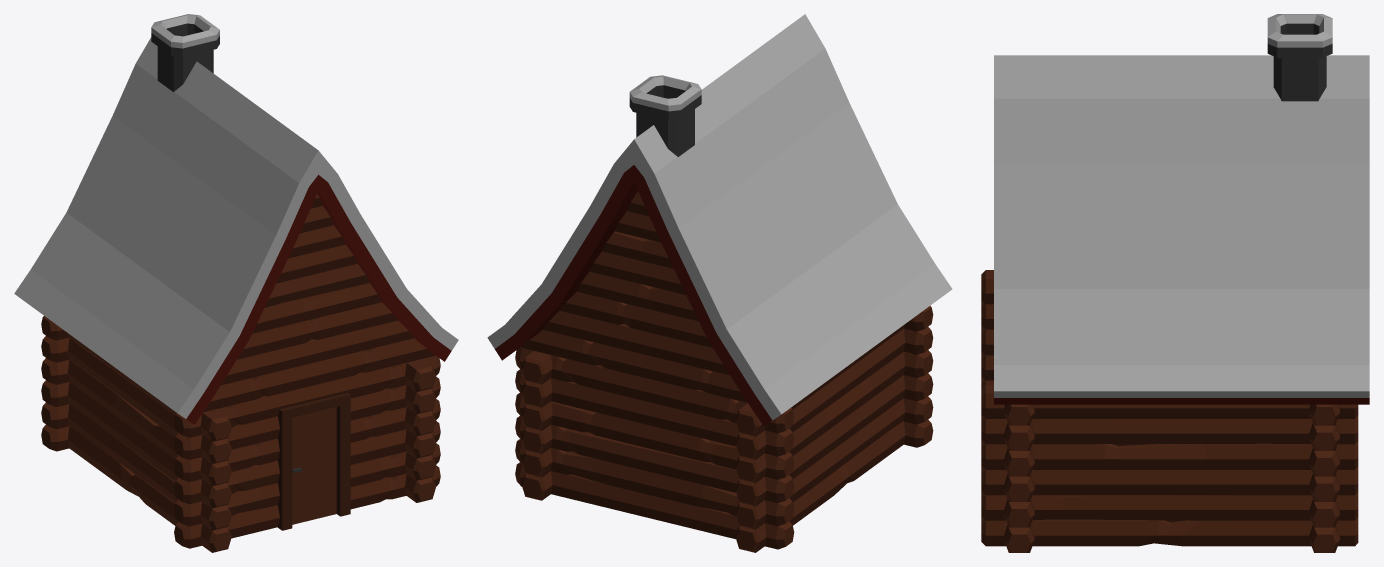
Rendered from Cabin.obj.
3 views of the same model, side by side, from view 1: azimuth 30°, elevation 25°; view 2: azimuth 150°, elevation 25°; view 3: azimuth 270°, elevation 25° (orthographic). The views are drawn at different scales.
Parts seen in each view (by area): view 1: Cabin_Cube.002; view 2: Cabin_Cube.002; view 3: Cabin_Cube.002.
Boxes of the visible parts, x1,y1,x2,y2 form: Cabin_Cube.002: (14,14,458,552); Cabin_Cube.002: (487,14,952,552); Cabin_Cube.002: (981,14,1369,552).
Size of the model in its own units: 11.12 by 15.14 by 11.58.
